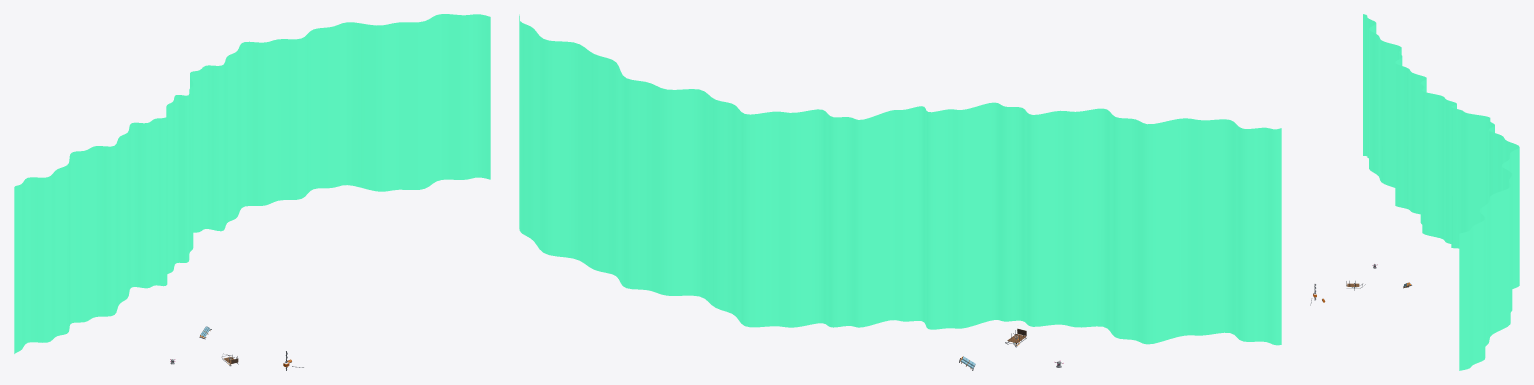
The model's file is actors.glb.
3 renders of one model, left to right at view 1: azimuth 30°, elevation 25°; view 2: azimuth 150°, elevation 25°; view 3: azimuth 270°, elevation 25°, orthographic. The views are drawn at different scales.
Visible parts, largest first — view 1: aurora_live_0; view 2: aurora_live_0; view 3: aurora_live_0.
Boxes of the visible parts, <box> form: aurora_live_0: <box>14,14,490,353</box>; aurora_live_0: <box>519,14,1281,345</box>; aurora_live_0: <box>1363,14,1519,370</box>.
Bounding box in the file's own units: 86 × 34.68 × 34.61.
